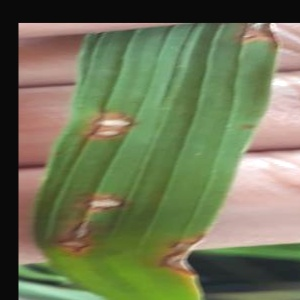Brown_Spot: (159, 232, 209, 286), (70, 180, 141, 218), (224, 104, 266, 147), (79, 101, 141, 130), (80, 125, 132, 148), (58, 237, 94, 263), (57, 214, 89, 243), (243, 24, 283, 47)
